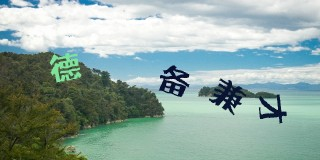兼: (209, 75, 246, 117)
备: (157, 64, 191, 97)
德: (48, 51, 82, 82)
才: (257, 92, 287, 125)
